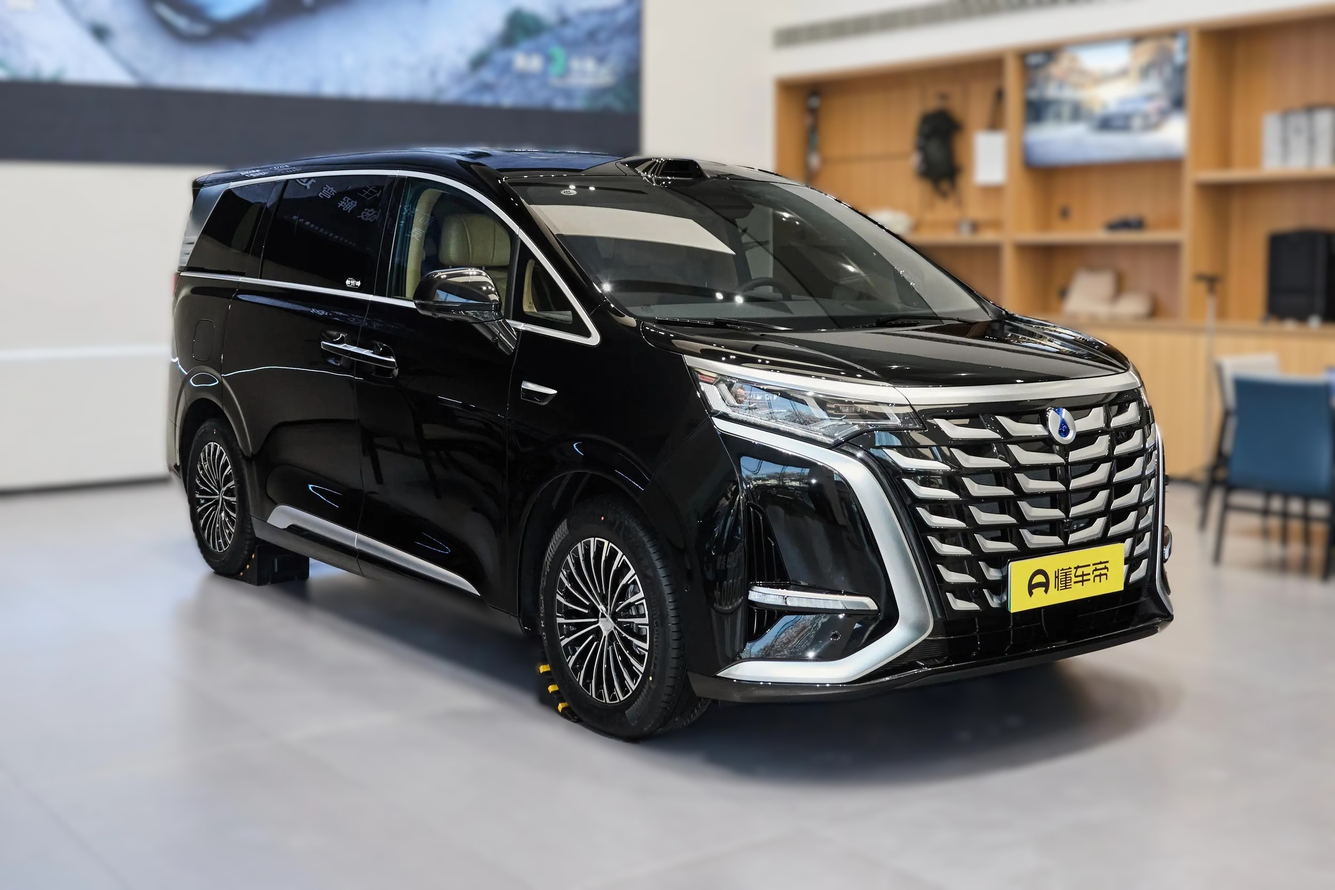DENZA: (1049, 407, 1076, 443)
